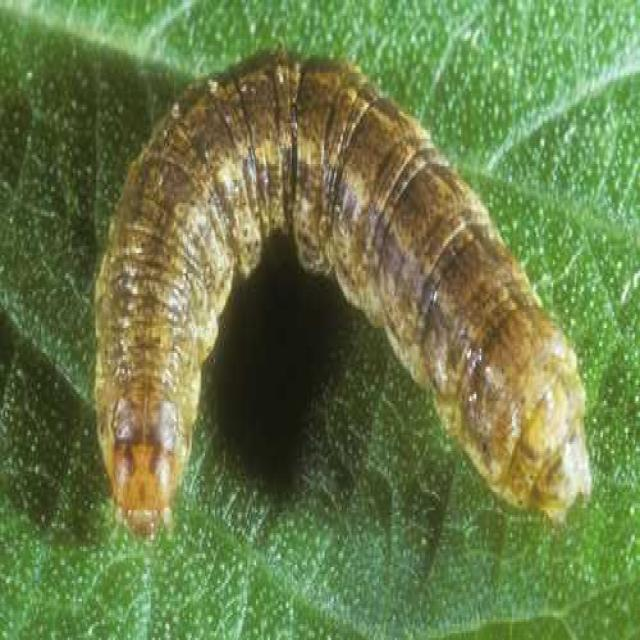Cutworm: (86, 53, 595, 540)
